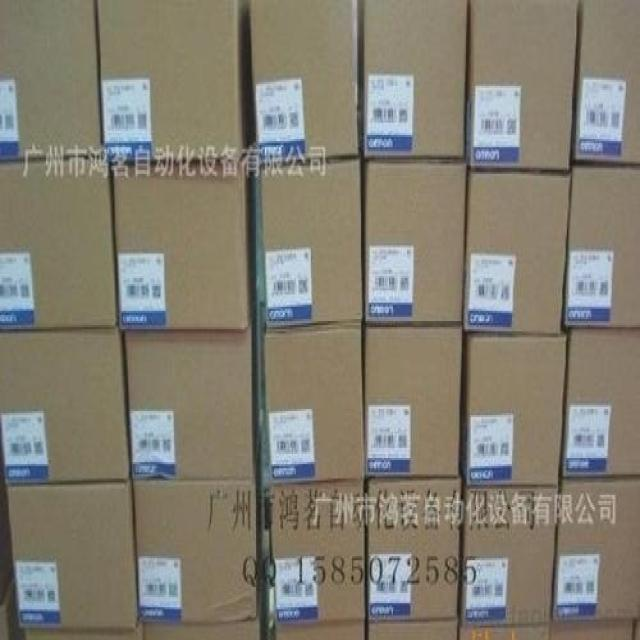box: (111, 139, 256, 329), (97, 2, 256, 164), (125, 305, 261, 485), (0, 323, 132, 485), (0, 157, 118, 331), (465, 0, 580, 174), (5, 487, 140, 630), (463, 164, 572, 335), (132, 476, 257, 624), (260, 153, 365, 327), (250, 2, 358, 168), (360, 157, 466, 323), (460, 327, 568, 487), (357, 2, 467, 159), (0, 0, 102, 164), (264, 323, 364, 483), (364, 323, 463, 478), (458, 485, 559, 628), (270, 481, 367, 628), (364, 476, 461, 620), (563, 162, 640, 327), (550, 481, 640, 622), (561, 327, 639, 483), (572, 0, 640, 164), (24, 620, 143, 640), (142, 620, 261, 640), (366, 620, 460, 640), (276, 620, 366, 640), (550, 618, 640, 638), (460, 624, 552, 638)
